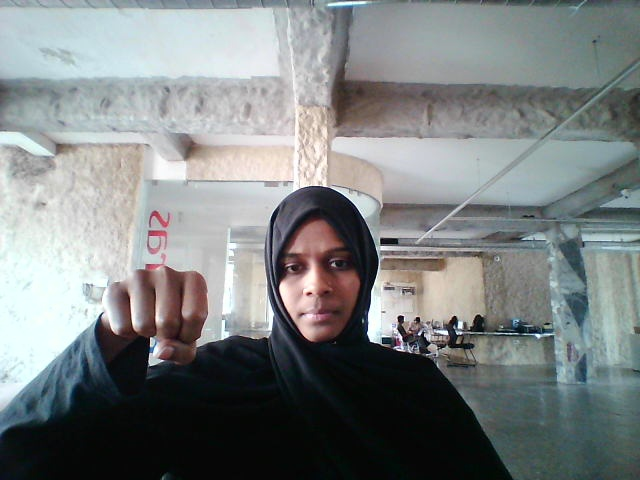YES: (77, 261, 242, 380)
